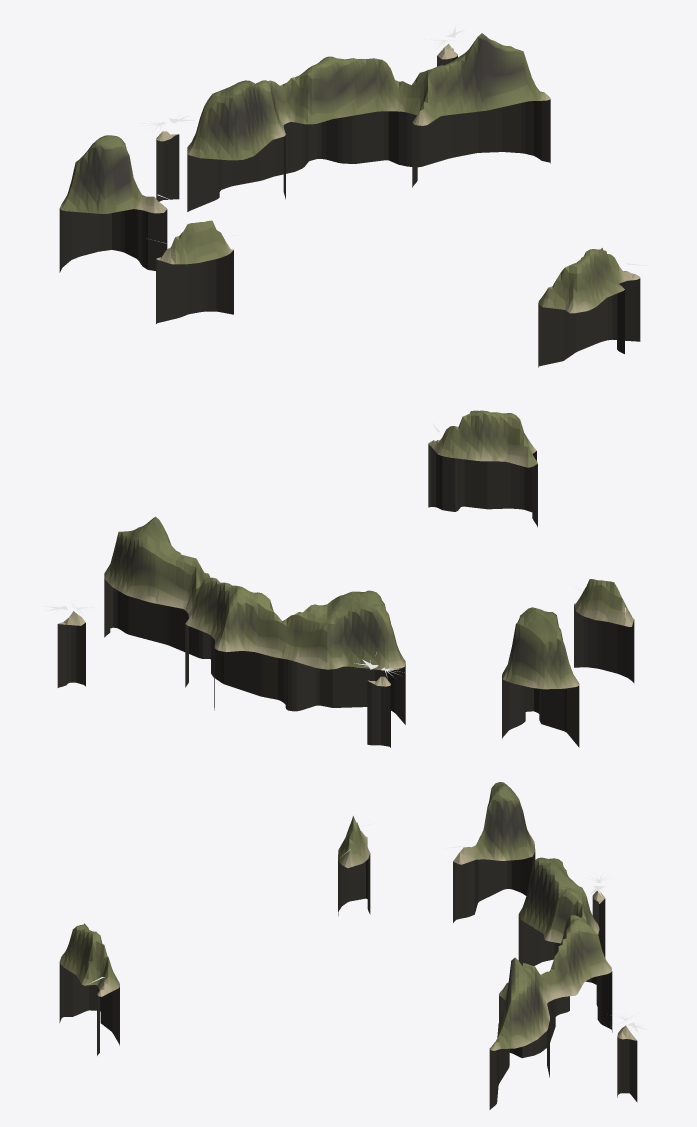
The model's file is landmark-abrolhos-balanced.v1.glb.
3 renders of one model, top to bottom at view 1: azimuth 30°, elevation 25°; view 2: azimuth 150°, elevation 25°; view 3: azimuth 270°, elevation 25°, orthographic. The views are drawn at different scales.
Visible parts, largest first — view 1: island; view 2: island; view 3: island.
Boxes of the visible parts, x1=… form: island: x1=59, y1=33, x2=640, y2=367; island: x1=57, y1=410, x2=634, y2=747; island: x1=59, y1=782, x2=637, y2=1109.
Bounding box in the file's own units: 23.01 × 5.41 × 25.42.
